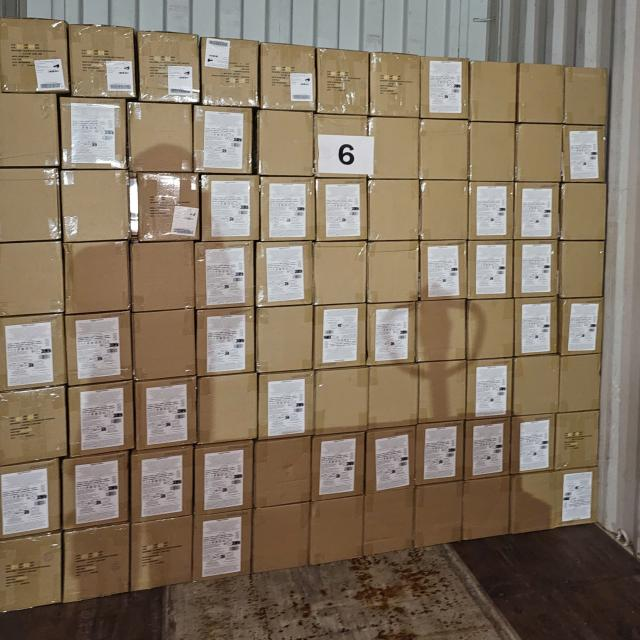Carton: (0, 18, 68, 95), (0, 388, 67, 466), (61, 167, 130, 242), (68, 25, 136, 101), (62, 457, 131, 531), (0, 534, 63, 614), (66, 381, 134, 455), (62, 524, 128, 600), (60, 97, 128, 170), (67, 313, 135, 386), (0, 315, 66, 390), (64, 240, 130, 314), (128, 105, 195, 177), (0, 243, 62, 320), (0, 461, 60, 540), (130, 240, 195, 312), (136, 31, 200, 104), (0, 168, 61, 244), (0, 94, 60, 171), (137, 174, 203, 244), (137, 379, 201, 451), (135, 311, 199, 382), (130, 518, 192, 590), (130, 448, 192, 519), (194, 108, 255, 178), (353, 117, 419, 181), (194, 240, 254, 310), (198, 175, 258, 244), (199, 39, 257, 109), (256, 304, 314, 374), (196, 445, 254, 515), (196, 376, 255, 444), (256, 110, 315, 178), (194, 512, 252, 581), (196, 309, 255, 376), (262, 42, 317, 113), (256, 240, 314, 307), (254, 440, 312, 506), (253, 507, 309, 573), (261, 175, 316, 242), (317, 46, 370, 115), (258, 374, 314, 439), (316, 307, 370, 372), (313, 435, 366, 501), (315, 369, 368, 435), (316, 176, 368, 242), (315, 117, 369, 180), (315, 241, 368, 305), (367, 178, 419, 243), (314, 498, 366, 563), (367, 366, 418, 431), (366, 242, 419, 304), (416, 301, 468, 364), (368, 52, 418, 116), (366, 303, 415, 368), (365, 431, 414, 495), (419, 118, 469, 180), (362, 490, 412, 552), (420, 181, 469, 243), (419, 56, 467, 118), (514, 472, 564, 531), (418, 363, 466, 424), (468, 299, 515, 361), (415, 484, 462, 546), (415, 426, 463, 486), (418, 241, 466, 301), (472, 59, 518, 121), (560, 183, 608, 242), (518, 122, 565, 182), (514, 354, 561, 414), (465, 478, 512, 538), (471, 120, 516, 181), (522, 61, 566, 123), (562, 67, 608, 126), (560, 241, 606, 300), (468, 242, 514, 301), (466, 418, 512, 477), (516, 241, 562, 299), (467, 358, 511, 418), (470, 184, 515, 242), (510, 413, 554, 472), (562, 124, 607, 181), (558, 299, 602, 357), (518, 184, 562, 242), (518, 299, 561, 358), (560, 352, 602, 412), (556, 409, 598, 466), (559, 468, 594, 525)
